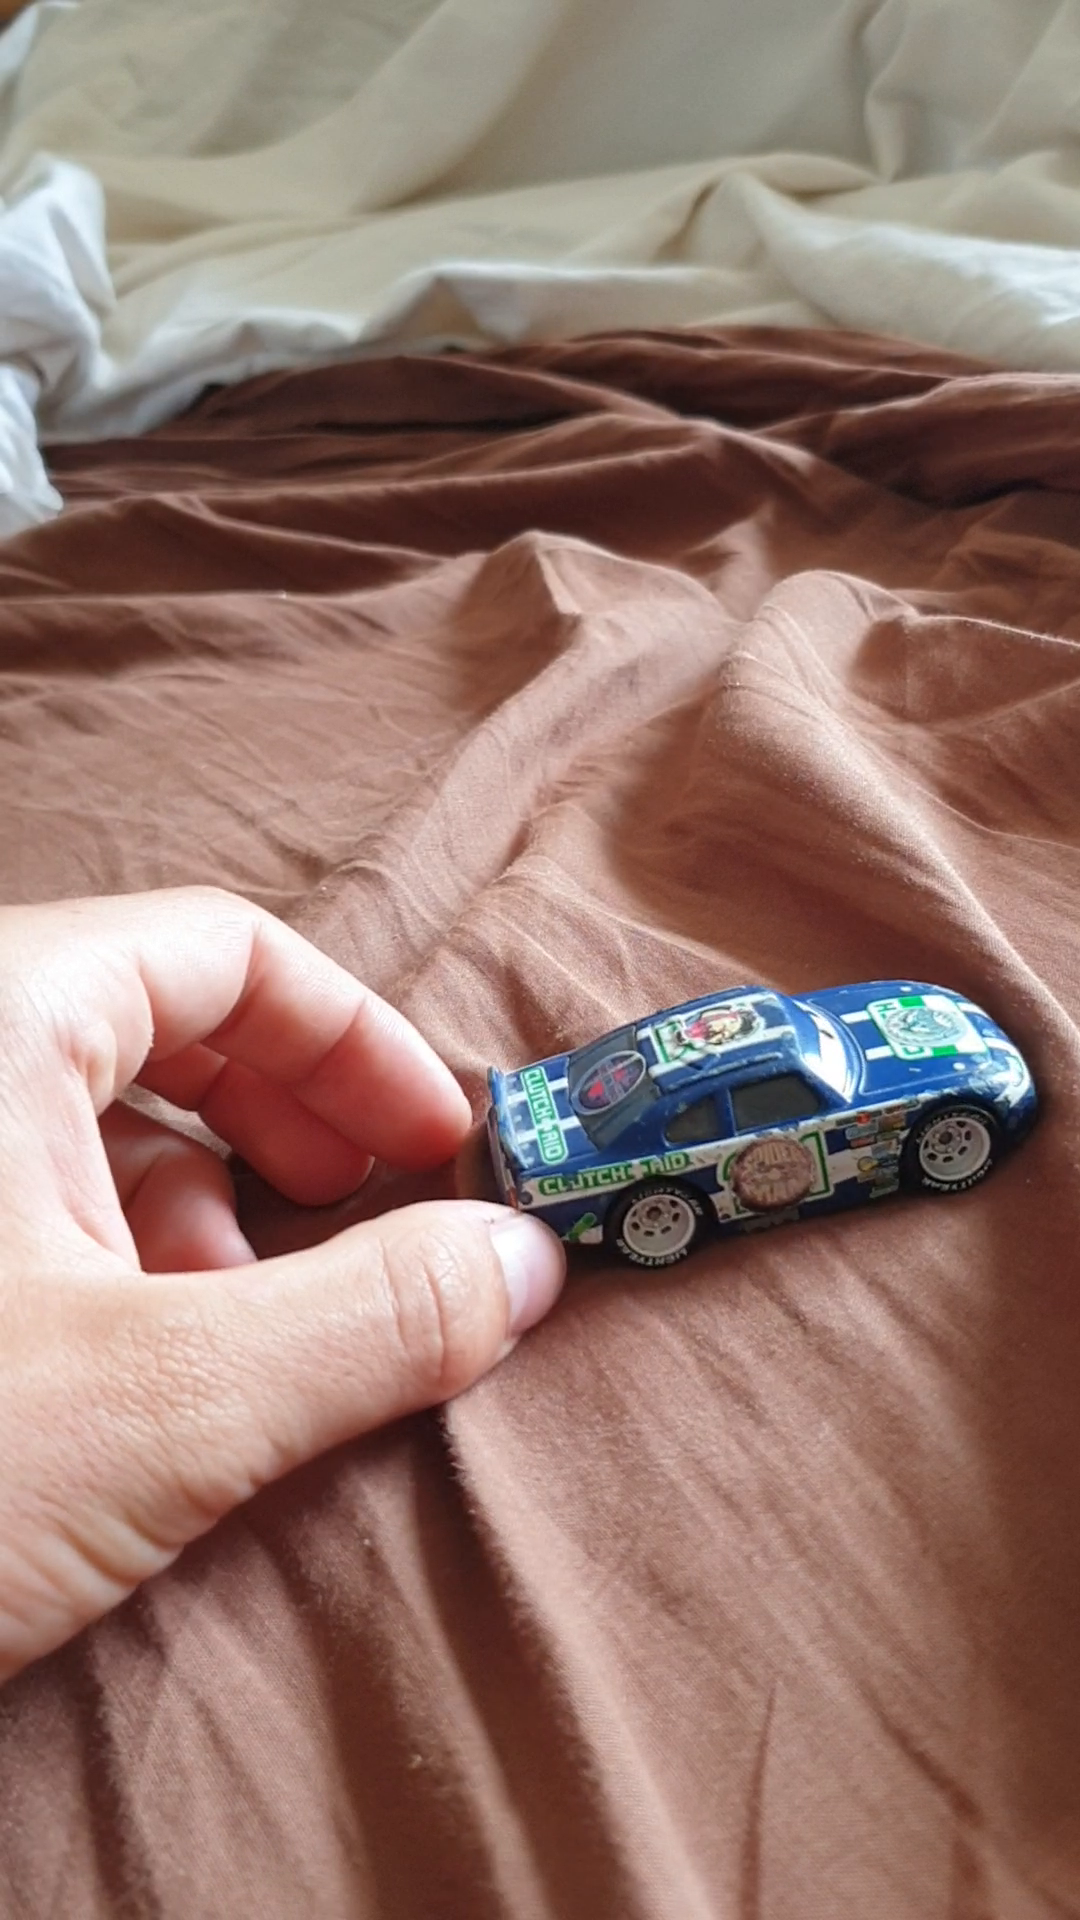cars: (488, 975, 1040, 1287)
